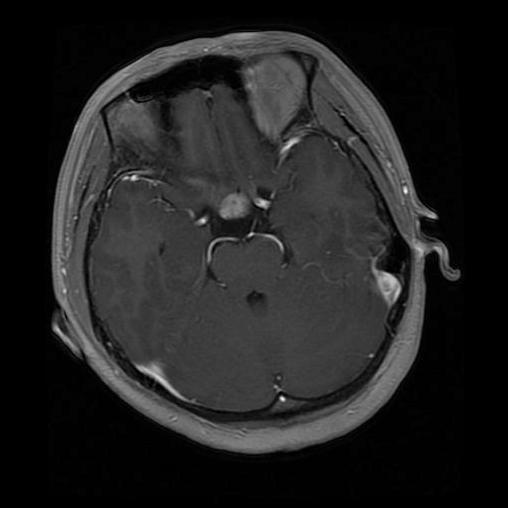Tumour-Pituitary: (221, 193, 250, 222)
